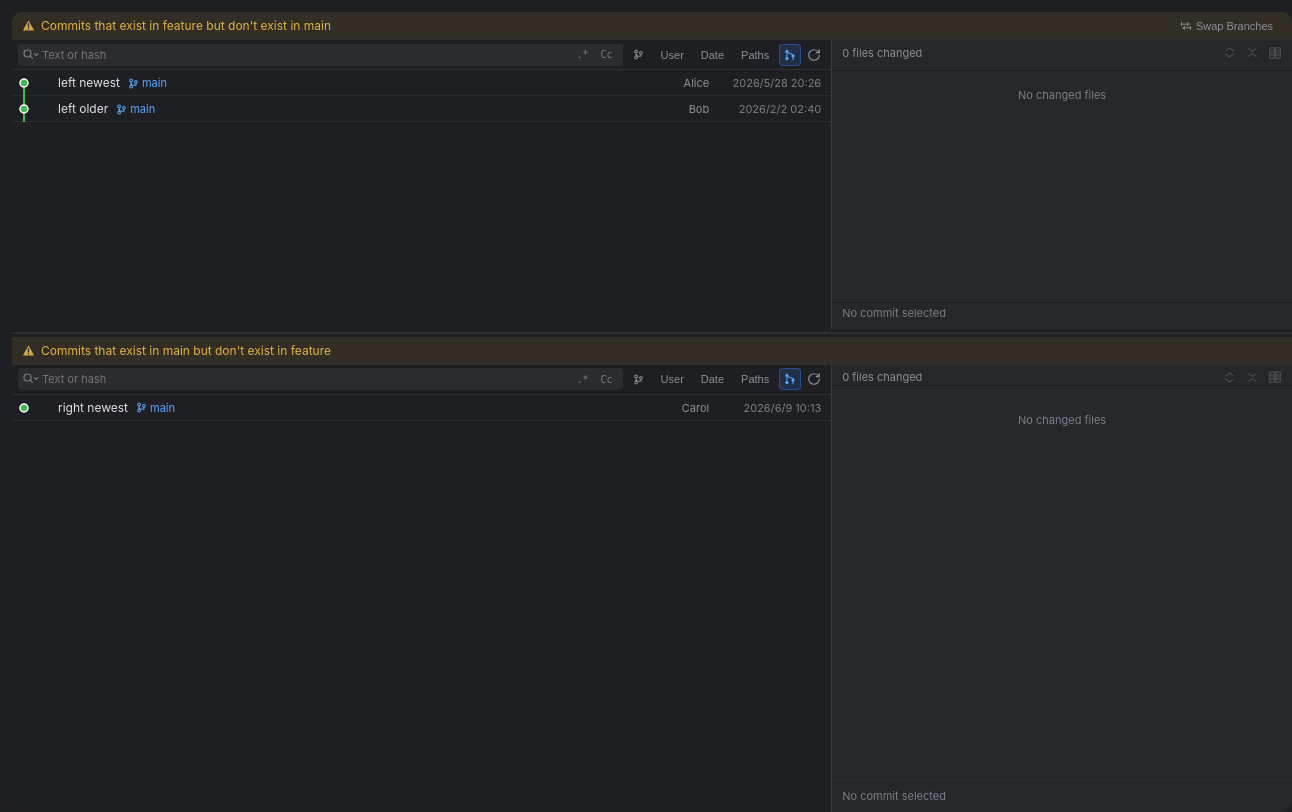
Test case: CompareBranchesView › renders two independent commit logs and loads details only after explicit selection
Expected: the text "Commits that exist in feature but don't exist in main" is shown, x1=41 y1=18 x2=331 y2=33
Expected: the text "Commits that exist in main but don't exist in feature" is shown, x1=41 y1=343 x2=331 y2=358
Click the text "left newest".
click(89, 82)  # box x1=58 y1=75 x2=120 y2=90
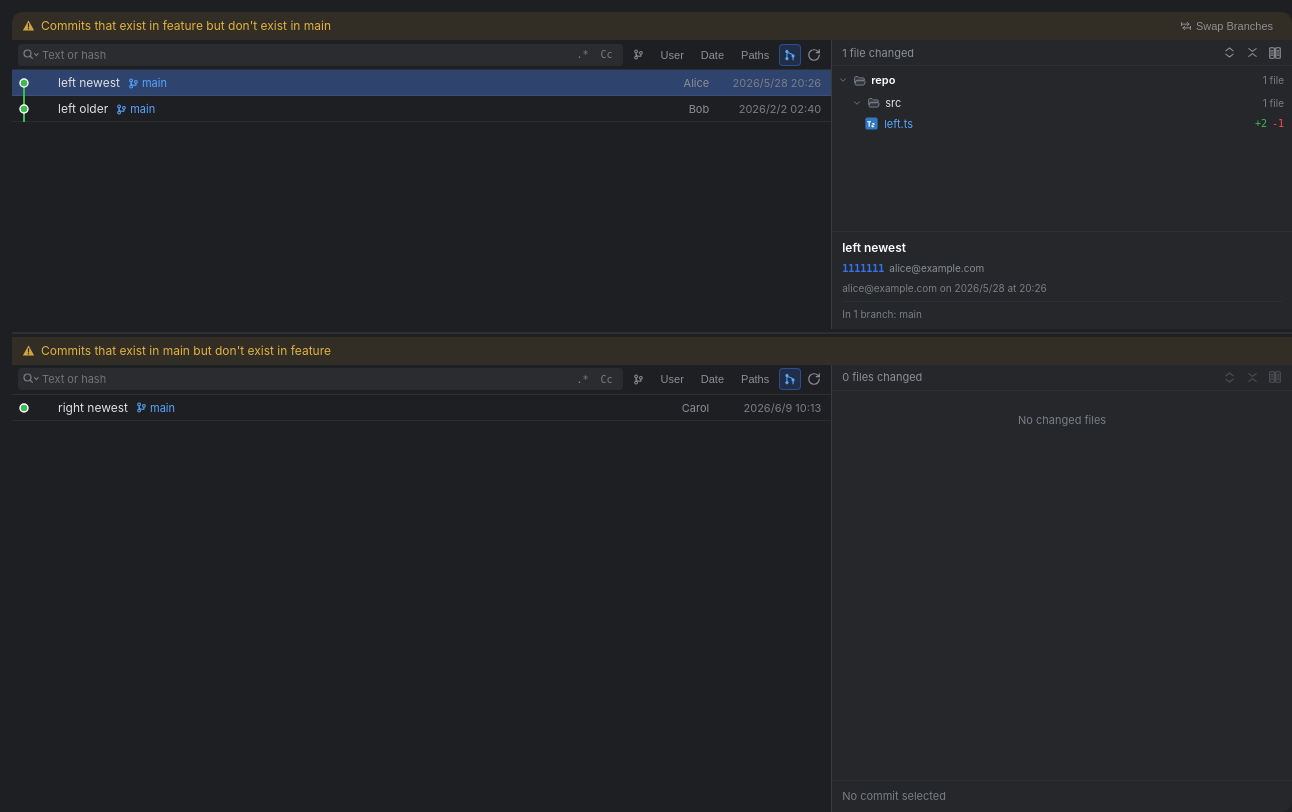
Result: the text "left.ts" is shown at x1=884 y1=116 x2=913 y2=130
Click the text "right newest".
click(93, 407)  # box x1=58 y1=400 x2=128 y2=415
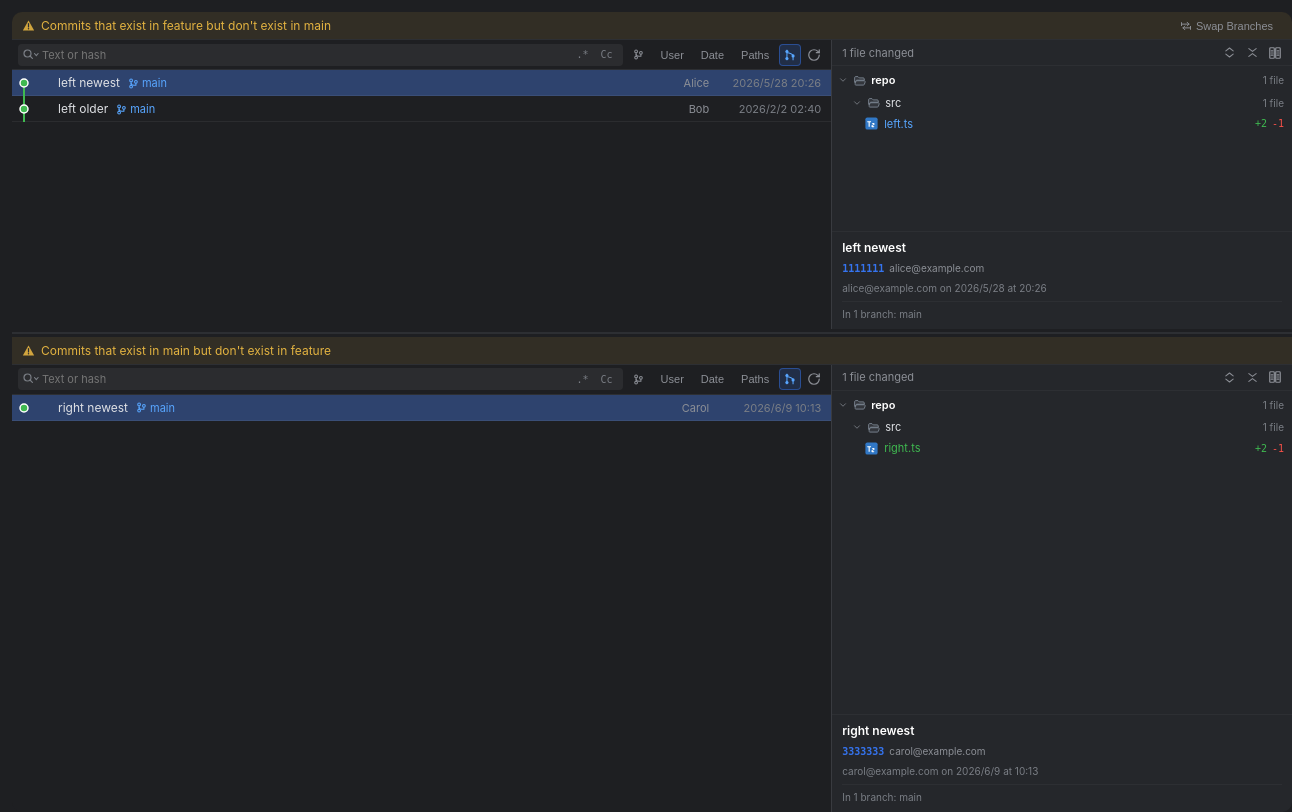
Result: the text "right.ts" is shown at x1=884 y1=441 x2=920 y2=455
